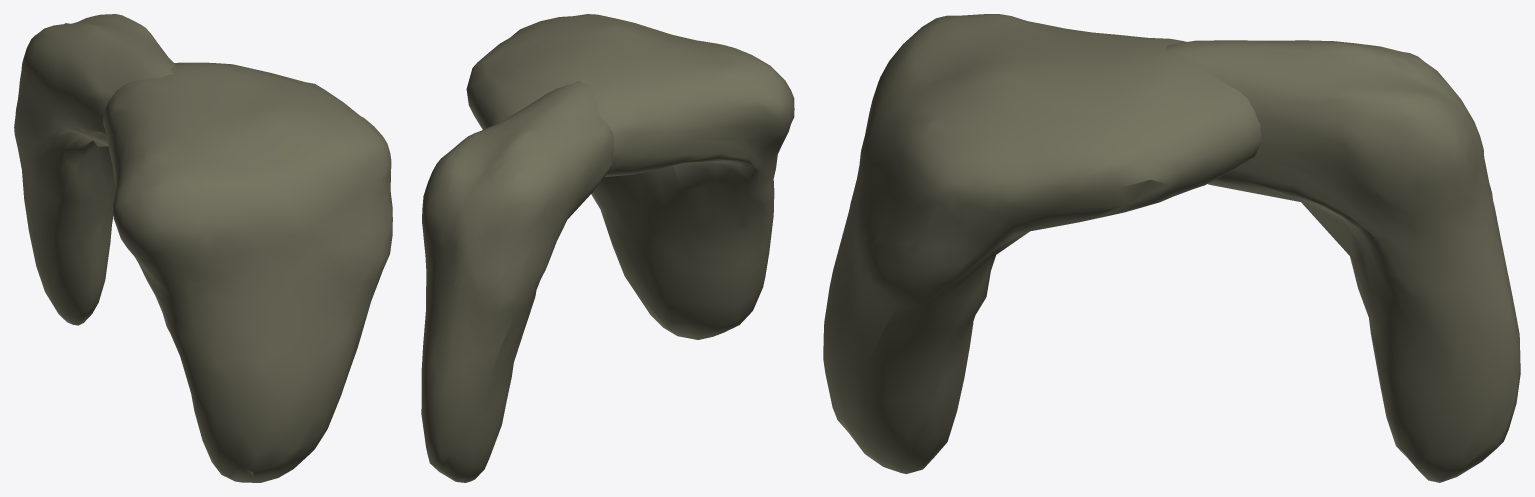
The model's file is RocaPlatform.fbx.
The picture shows the model from 3 angles, left to right: view 1: azimuth 30°, elevation 25°; view 2: azimuth 150°, elevation 25°; view 3: azimuth 270°, elevation 25°; orthographic projection. The views are drawn at different scales.
Visible parts, largest first — view 1: rock.002, rock.004; view 2: rock.002, rock.004; view 3: rock.002, rock.004.
Part boxes in pixels (left/top/right/bottom): rock.002: left=103, top=62, right=392, bottom=482; rock.004: left=14, top=14, right=175, bottom=325; rock.002: left=466, top=14, right=794, bottom=339; rock.004: left=421, top=81, right=614, bottom=482; rock.002: left=823, top=14, right=1261, bottom=473; rock.004: left=1165, top=40, right=1520, bottom=482.
Bounding box in the file's own units: 264 × 308 × 457.
